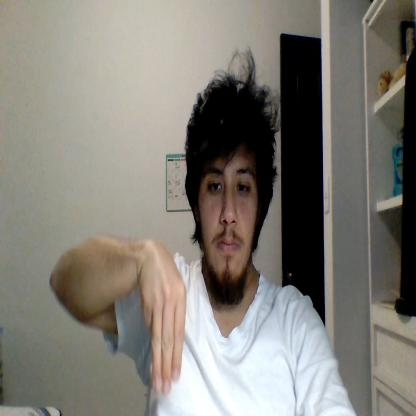M: (139, 240, 186, 394)
